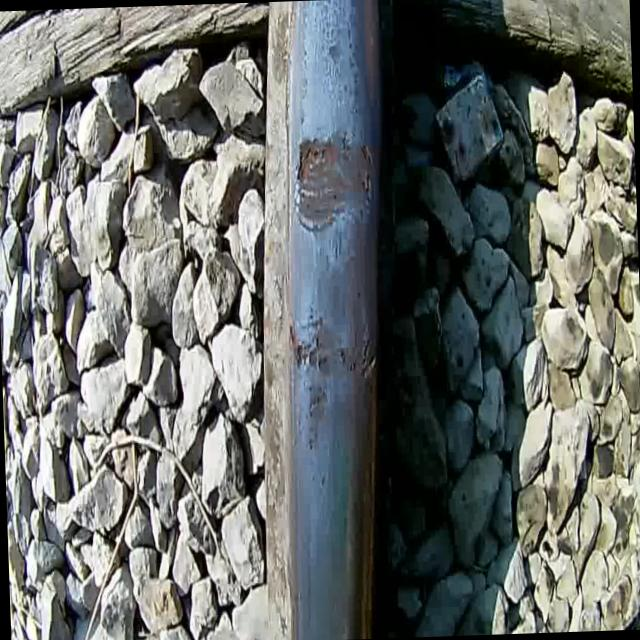Spallings: (284, 301, 332, 380), (290, 130, 336, 186), (336, 332, 383, 382), (357, 136, 376, 215)
Squats: (284, 119, 384, 245)
